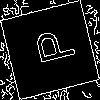P: (24, 25, 77, 69)
